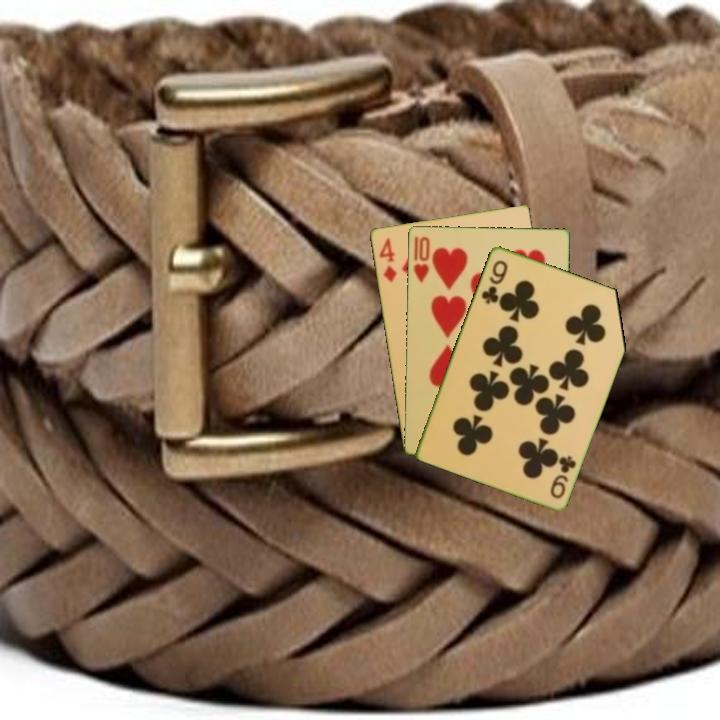10h: (410, 233, 432, 285)
4d: (375, 234, 399, 285)
9c: (477, 256, 510, 307), (546, 451, 579, 501)
